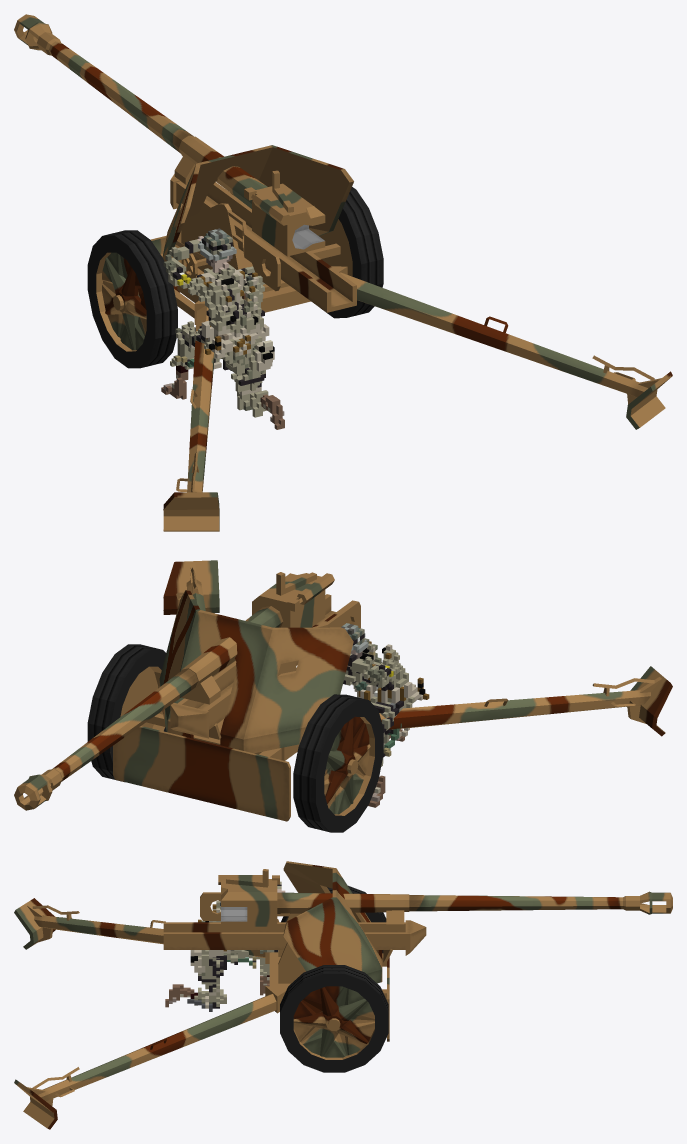
File: at_gun_pak40_base.glb
The picture shows the model from 3 angles, top to bottom: view 1: azimuth 30°, elevation 25°; view 2: azimuth 150°, elevation 25°; view 3: azimuth 270°, elevation 25°; orthographic projection. The views are drawn at different scales.
Parts seen in each view (by area): view 1: 00_turret_pak_40_base.mesh, crew_soldier_SLOT_00_GUNNER, weapon_turret_0_pak_40_cannon.mesh; view 2: 00_turret_pak_40_base.mesh, weapon_turret_0_pak_40_cannon.mesh, crew_soldier_SLOT_00_GUNNER; view 3: 00_turret_pak_40_base.mesh, weapon_turret_0_pak_40_cannon.mesh, crew_soldier_SLOT_00_GUNNER.
Part boxes in pixels (x1=…): 00_turret_pak_40_base.mesh: x1=87, y1=145, x2=672, y2=531; crew_soldier_SLOT_00_GUNNER: x1=161, y1=228, x2=284, y2=429; weapon_turret_0_pak_40_cannon.mesh: x1=14, y1=14, x2=325, y2=256; 00_turret_pak_40_base.mesh: x1=87, y1=560, x2=672, y2=832; weapon_turret_0_pak_40_cannon.mesh: x1=14, y1=572, x2=334, y2=810; crew_soldier_SLOT_00_GUNNER: x1=341, y1=623, x2=429, y2=807; 00_turret_pak_40_base.mesh: x1=14, y1=861, x2=426, y2=1129; weapon_turret_0_pak_40_cannon.mesh: x1=218, y1=869, x2=672, y2=929; crew_soldier_SLOT_00_GUNNER: x1=165, y1=881, x2=285, y2=1011.
Bounding box in the file's own units: 4 × 1.53 × 5.67.
Materials: 37 (1 with a texture image).
